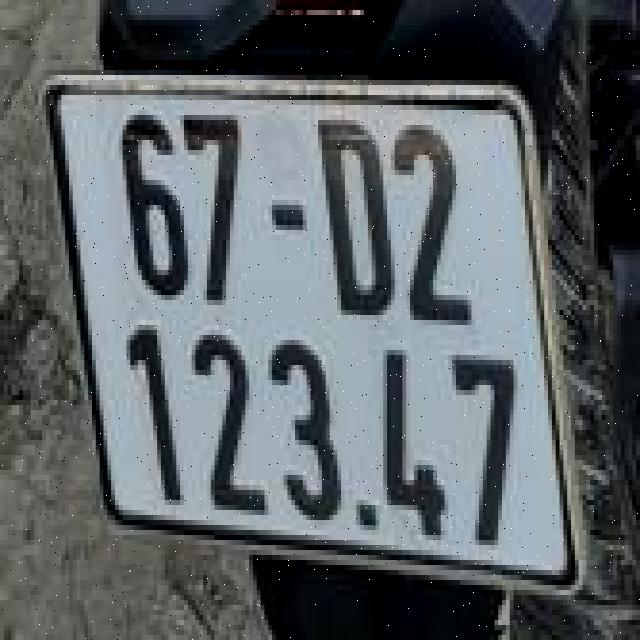1: (121, 315, 182, 520)
2: (397, 118, 481, 342), (190, 325, 270, 525)
3: (270, 312, 351, 538)
4: (370, 335, 454, 560)
6: (119, 102, 188, 302)
7: (180, 102, 249, 312), (458, 328, 519, 562)
D: (308, 98, 396, 328)
